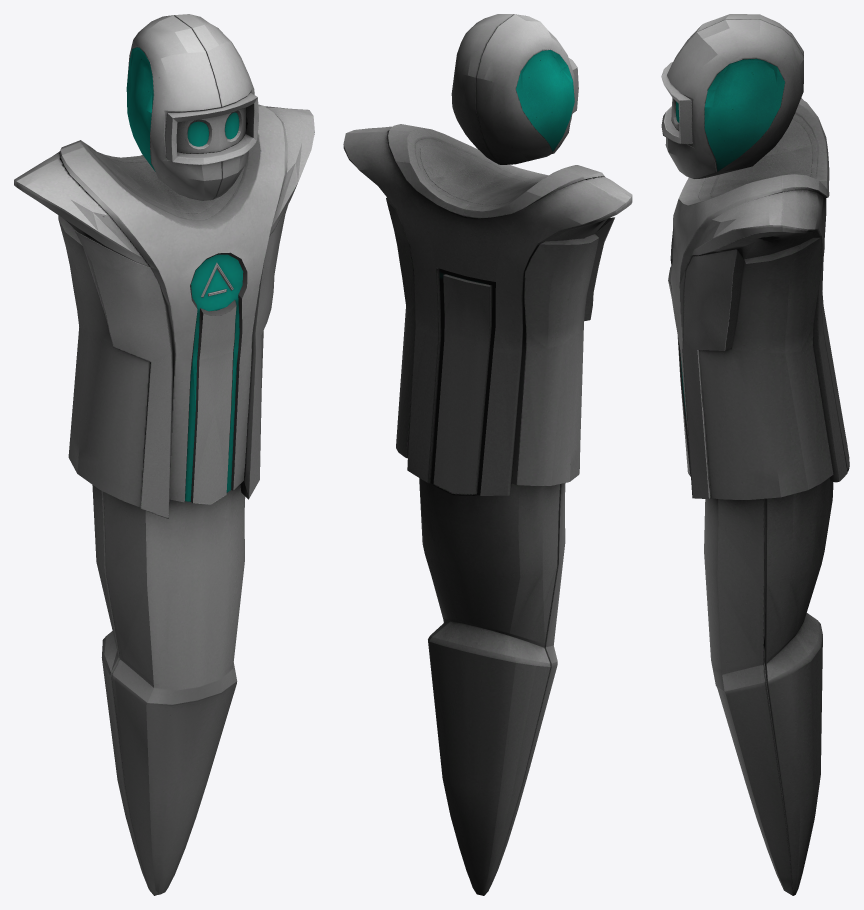
Rendered from S-Series-M01.obj.
The picture shows the model from 3 angles, left to right: view 1: azimuth 30°, elevation 25°; view 2: azimuth 150°, elevation 25°; view 3: azimuth 270°, elevation 25°; orthographic projection. The views are drawn at different scales.
Parts seen in each view (by area): view 1: Body, Head; view 2: Body, Head; view 3: Body, Head.
Part boxes in pixels (x1=…): Body: x1=14, y1=104, x2=314, y2=895; Head: x1=126, y1=14, x2=258, y2=200; Body: x1=343, y1=124, x2=632, y2=895; Head: x1=451, y1=14, x2=578, y2=164; Body: x1=668, y1=98, x2=849, y2=895; Head: x1=661, y1=14, x2=803, y2=178.
Bounding box in the file's own units: 0.5232 × 1.52 × 0.2971.
2 materials, 2 textured.
